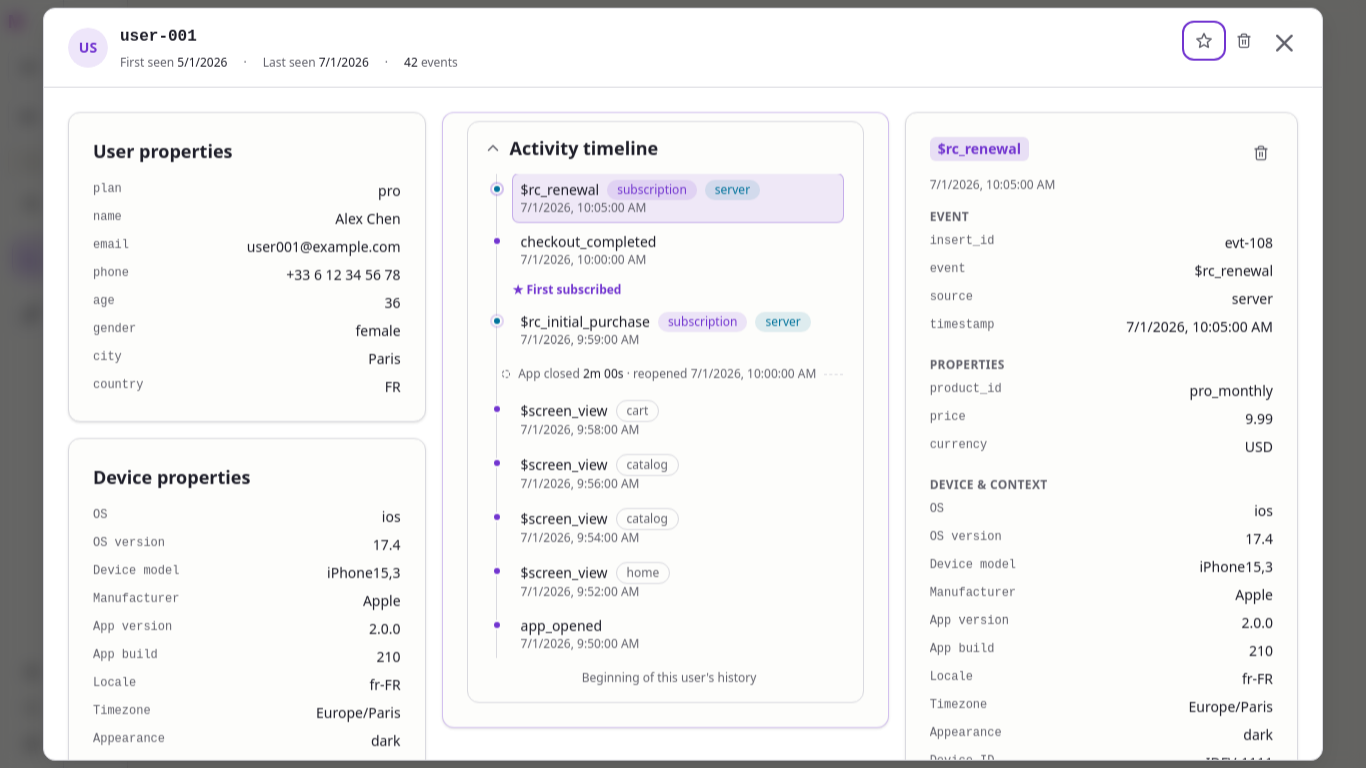
Test case: The user profile modal › offers the same remove action from the profile header
The width and height of the screenshot is (1366, 768).
Click the button named "Remove ".
click(1244, 41)  # box x1=1228 y1=25 x2=1260 y2=57
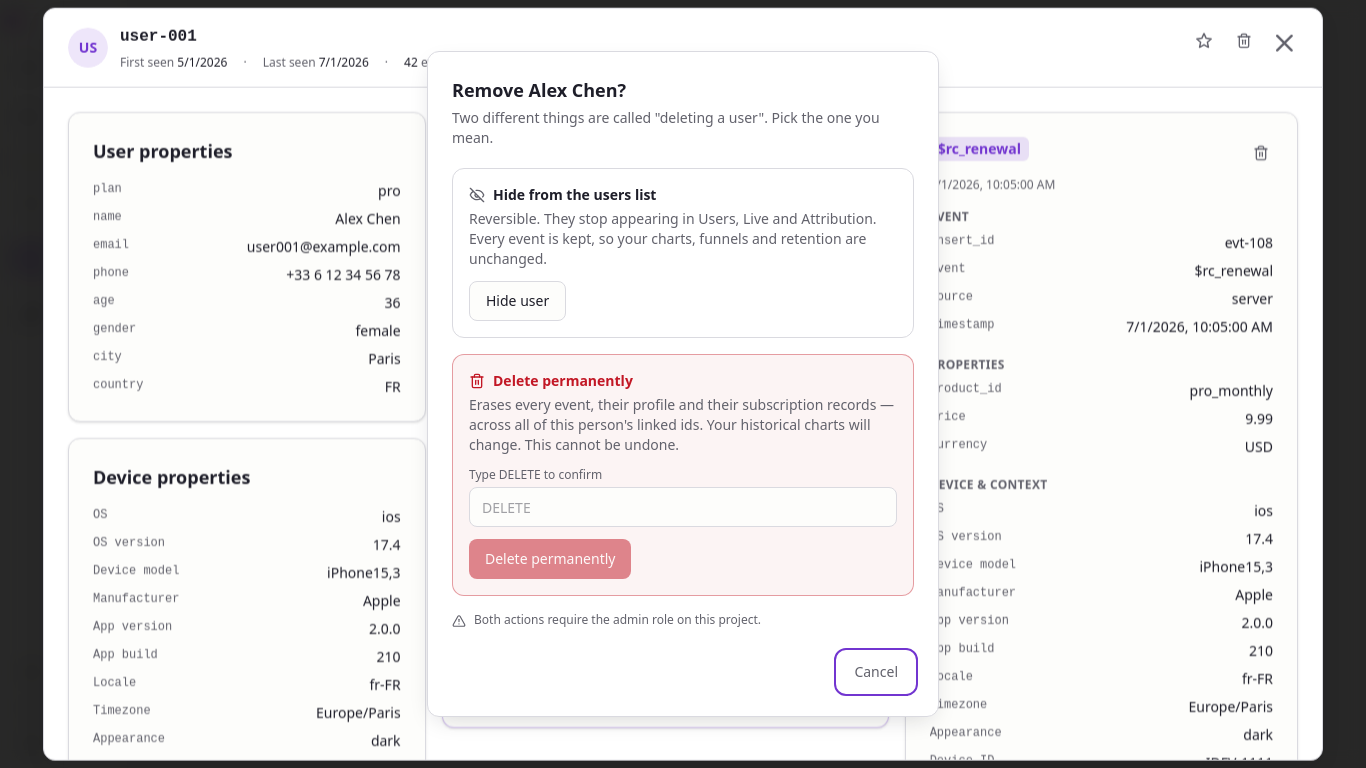
expect the dialog that starts with "Remove" is shown: met, box x1=427 y1=51 x2=939 y2=717
